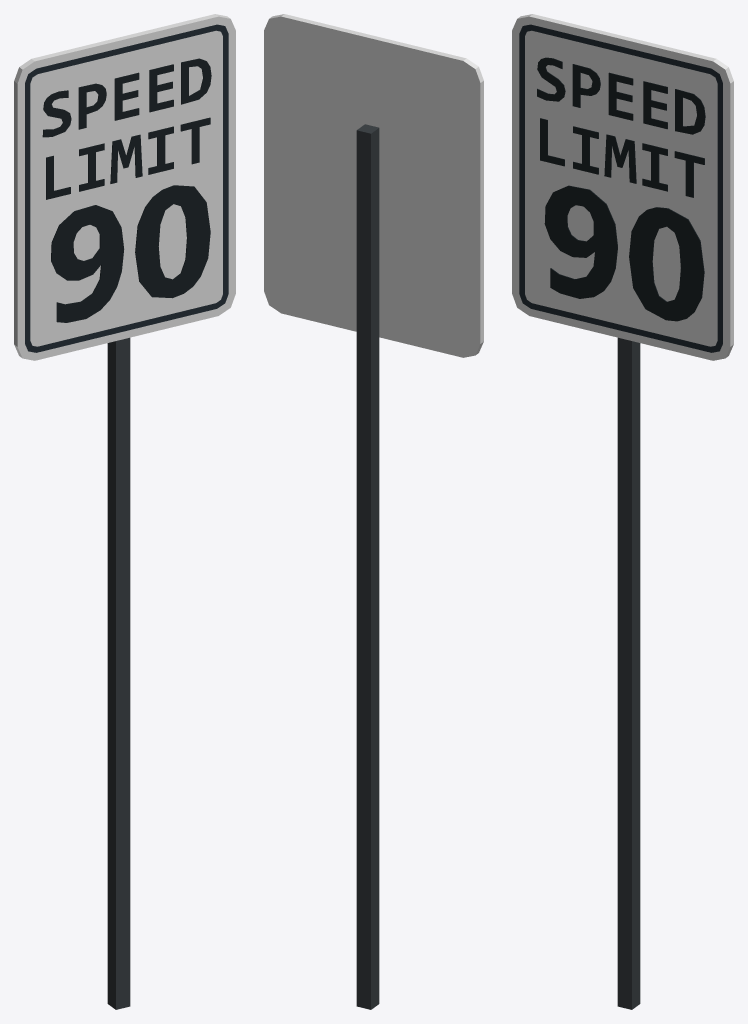
Rendered from SM_FloorProps_RoadSign_05.fbx.
The picture shows the model from 3 angles, left to right: view 1: azimuth 30°, elevation 25°; view 2: azimuth 150°, elevation 25°; view 3: azimuth 330°, elevation 25°; orthographic projection.
Visible parts, largest first — view 1: SM_FloorProps_RoadSign_05; view 2: SM_FloorProps_RoadSign_05; view 3: SM_FloorProps_RoadSign_05.
Part boxes in pixels (box(x1,y1,x2,y2)): SM_FloorProps_RoadSign_05: box(14, 14, 235, 1009); SM_FloorProps_RoadSign_05: box(264, 14, 483, 1009); SM_FloorProps_RoadSign_05: box(512, 14, 733, 1009).
Size of the model in its own units: 0.6461 by 2.75 by 0.0638.
